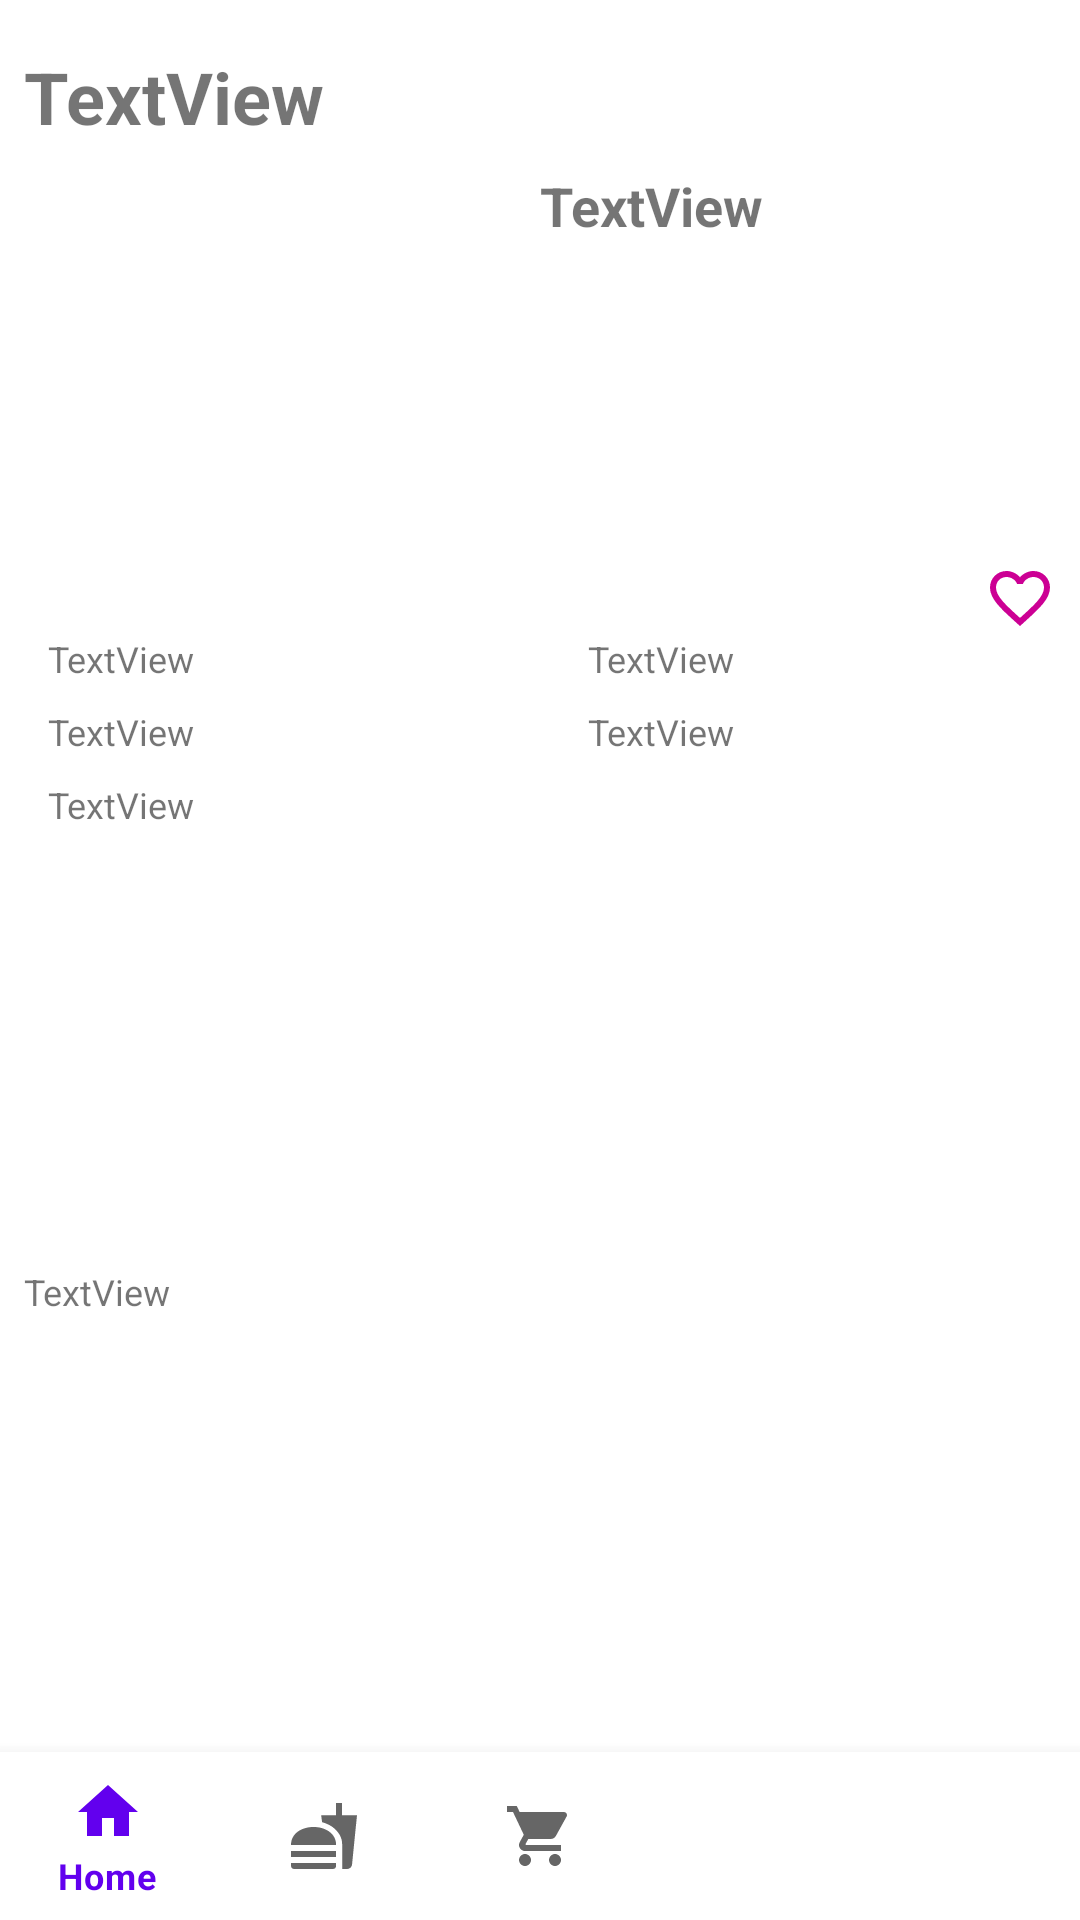

Named icons in this screenshot (1080px×1920px) and their centers, (x,y):
favourite border: (1020,598)
